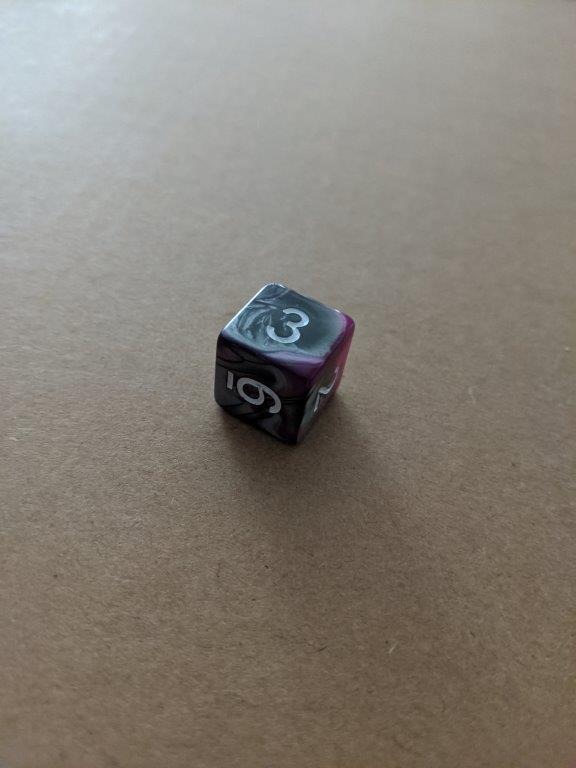d6-3: (213, 279, 357, 443)
